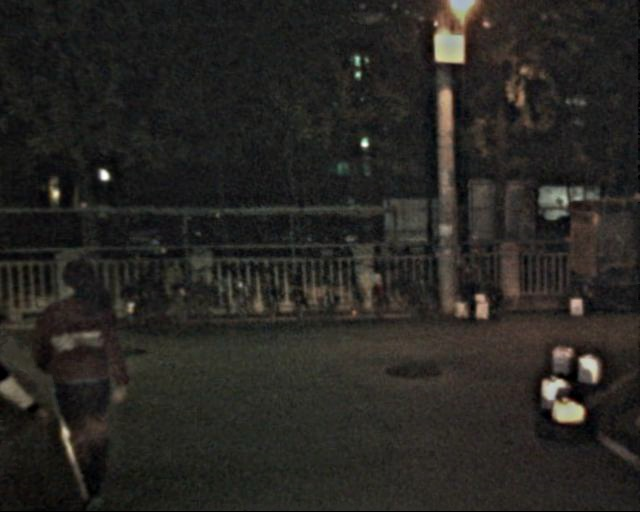person: (36, 253, 145, 493)
